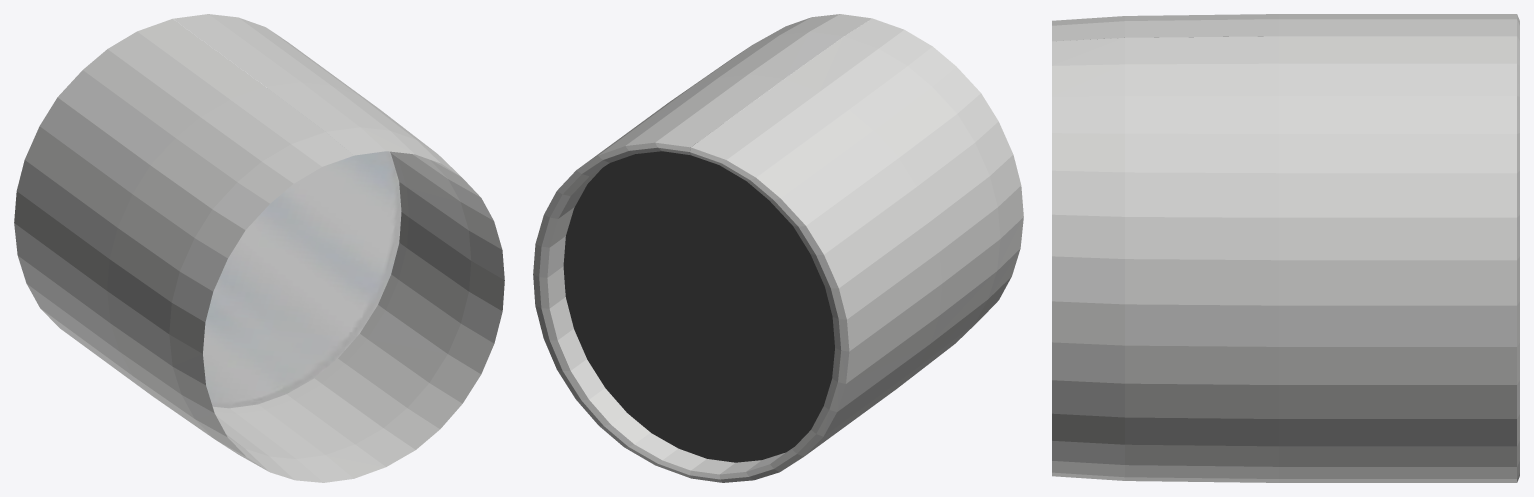
File: sh-contrib-oval-mirror.glb
The picture shows the model from 3 angles, left to right: view 1: azimuth 30°, elevation 25°; view 2: azimuth 150°, elevation 25°; view 3: azimuth 270°, elevation 25°; orthographic projection. The views are drawn at different scales.
Visible parts, largest first — view 1: Tube, sweethome3d_window_mirror; view 2: Tube, Fond; view 3: Tube.
Part boxes in pixels (<box>): Tube: <box>14,14,504,482</box>; sweethome3d_window_mirror: <box>203,88,401,408</box>; Tube: <box>533,14,1023,482</box>; Fond: <box>563,151,834,462</box>; Tube: <box>1052,14,1519,482</box>.
Bounding box in the file's own units: 1 × 1 × 1.
Materials: 3 (1 with a texture image).
